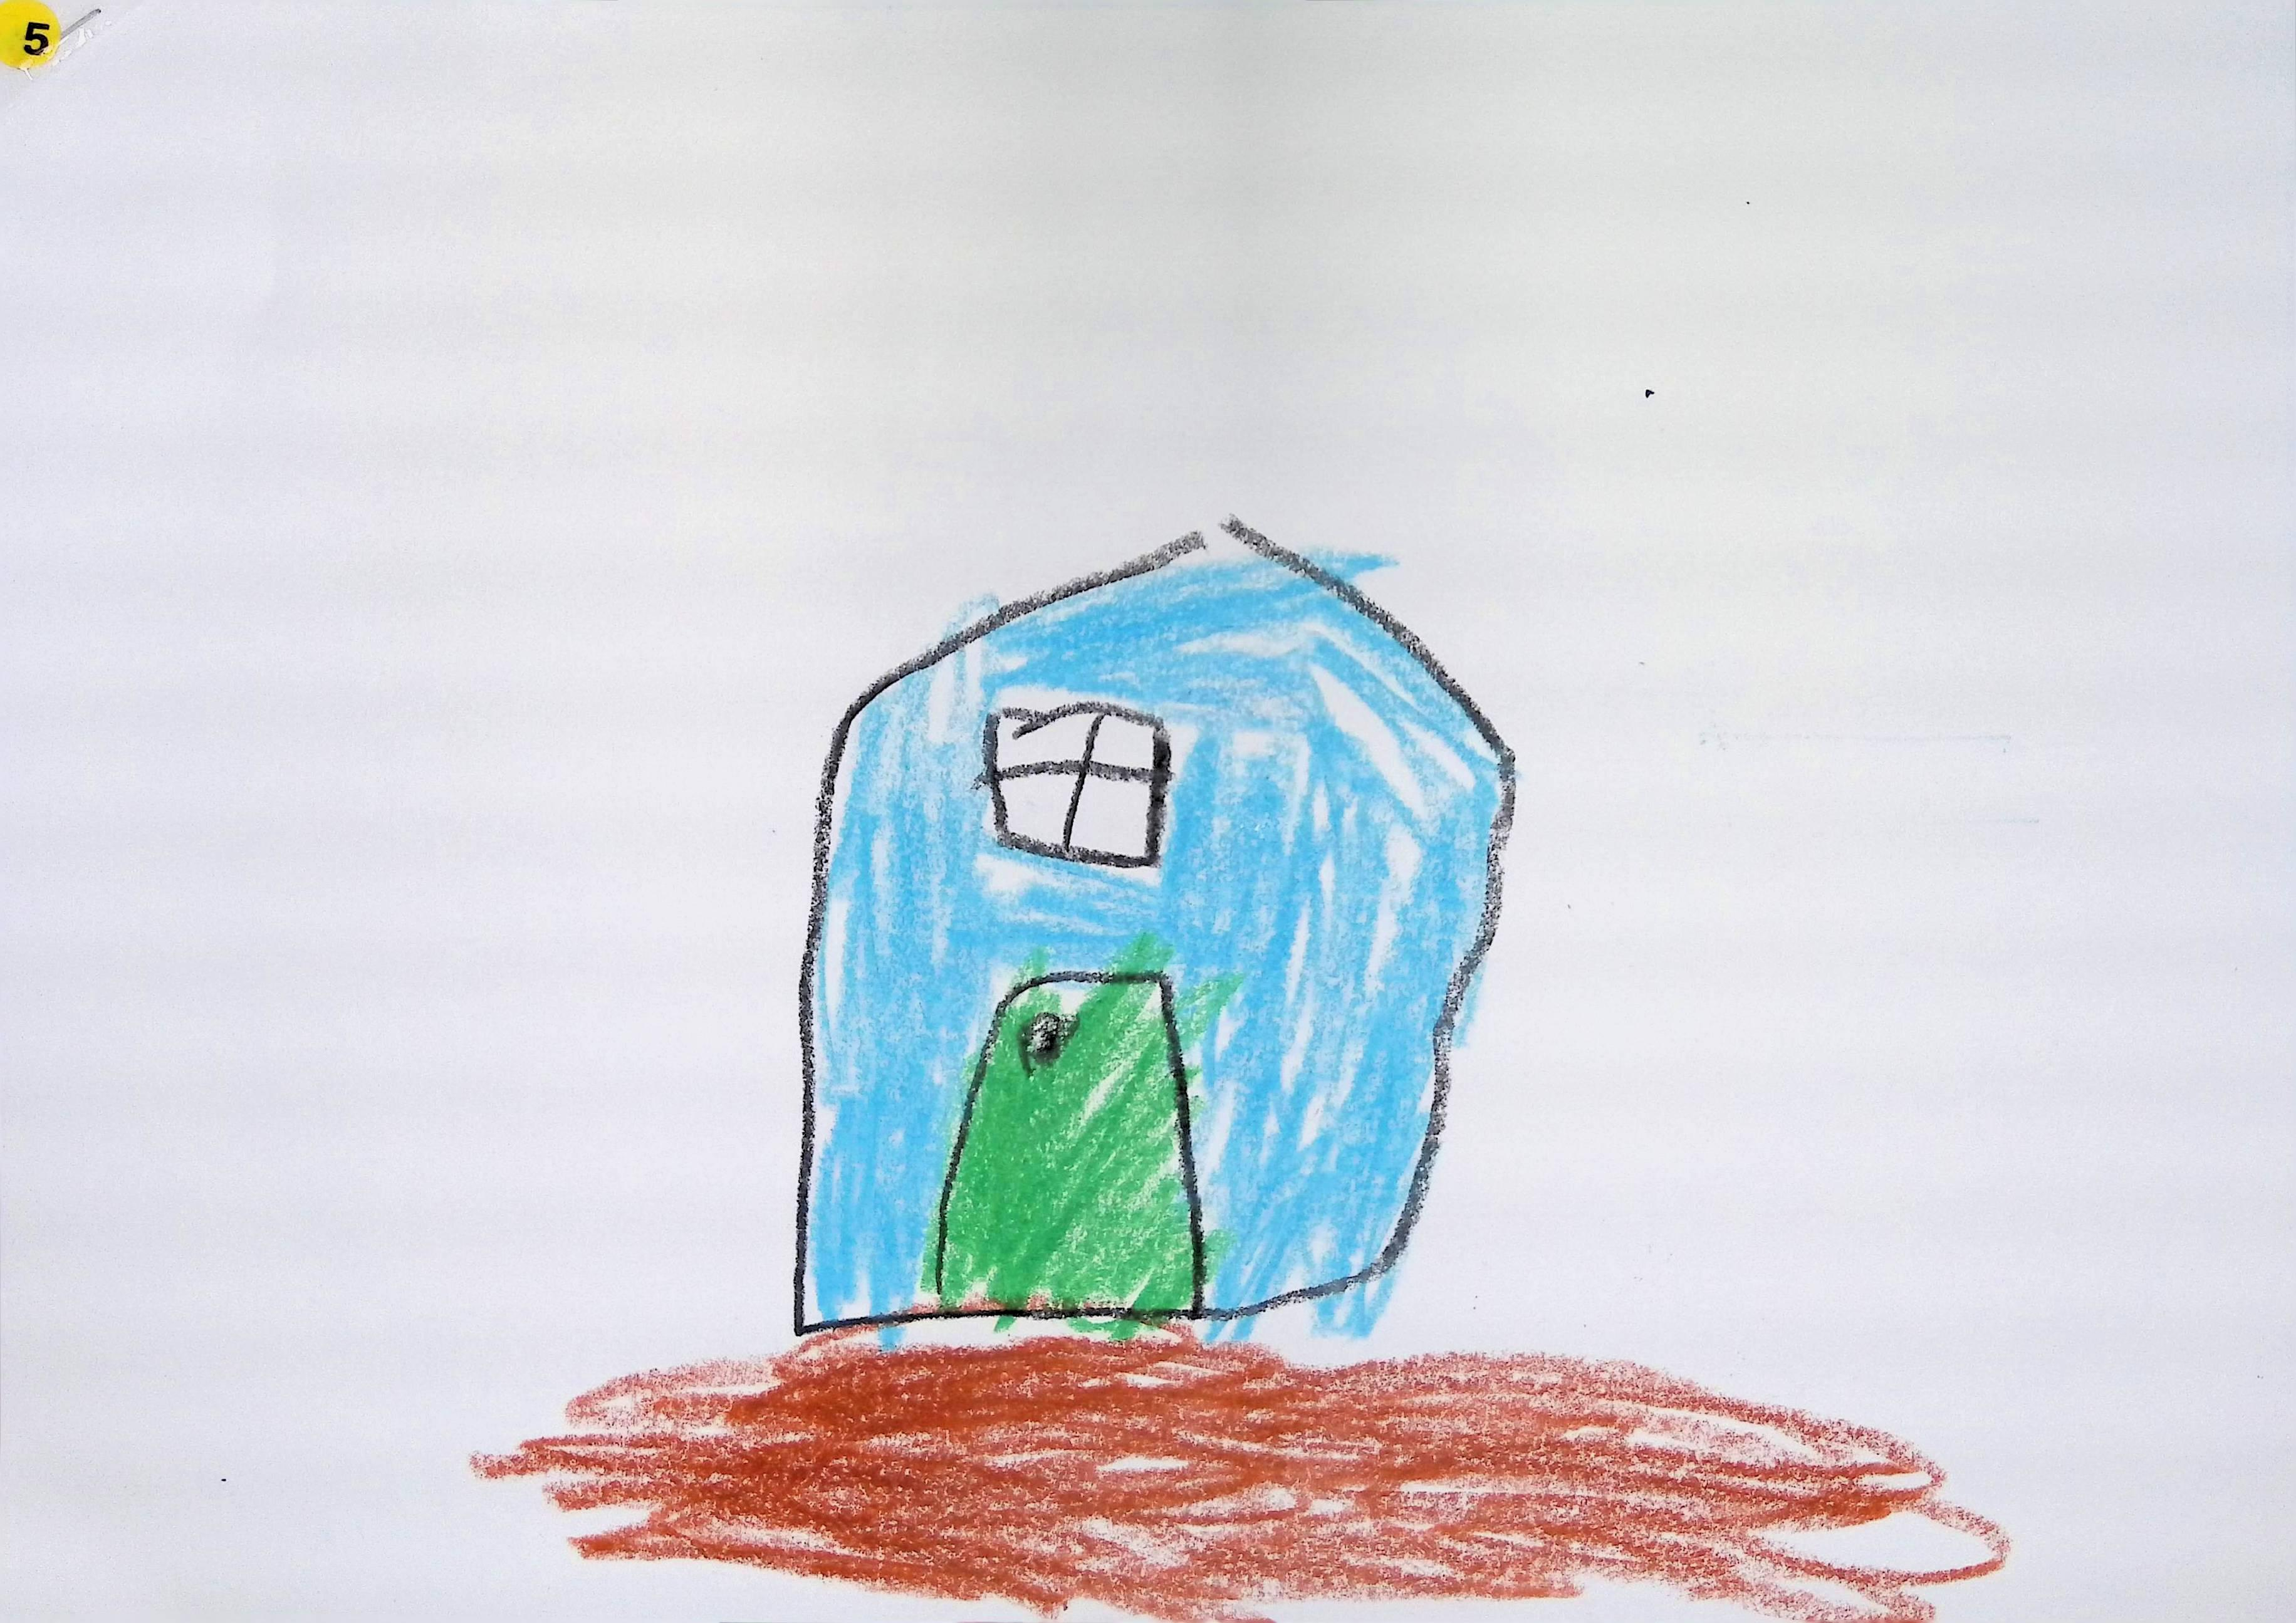door: (938, 975, 1207, 1324)
house: (796, 522, 1514, 1333)
wall: (796, 522, 1514, 1333)
window: (982, 699, 1172, 868)
